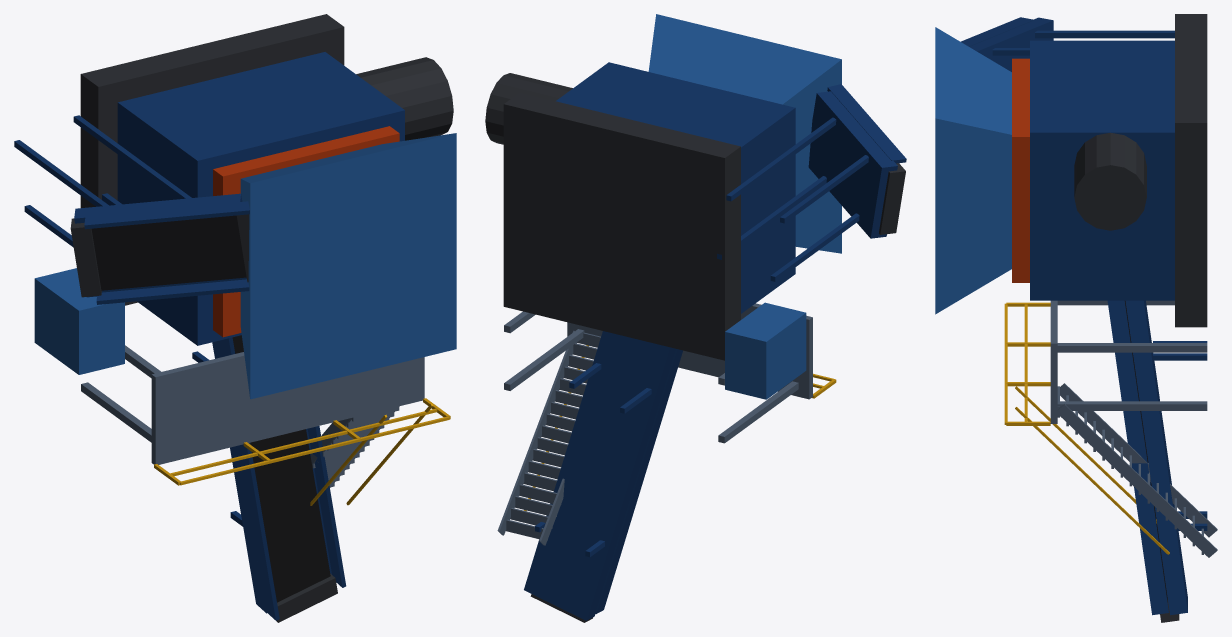
The model's file is secondary_processor.obj.
The picture shows the model from 3 angles, left to right: view 1: azimuth 30°, elevation 25°; view 2: azimuth 150°, elevation 25°; view 3: azimuth 270°, elevation 25°; orthographic projection. The views are drawn at different scales.
Visible parts, largest first — view 1: sec_hopper.006, sec_body.006, sec_platform_deck.006, sec_base.006, sec_infeed_conveyor_belt.006, sec_discharge_belt.006, sec_control_cabinet.006, sec_cover.006, sec_drive.006, sec_discharge_side.013, sec_infeed_conveyor_side.012, sec_infeed_conveyor_frame.006 (+10 smaller); view 2: sec_base.006, sec_discharge_frame.006, sec_body.006, sec_hopper.006, sec_infeed_conveyor_frame.006, sec_control_cabinet.006, sec_drive.006, sec_discharge_side.013, sec_platform_deck.006, sec_stairs_stringer.013, sec_infeed_conveyor_side.012, sec_infeed_conveyor_drum.012 (+6 smaller); view 3: sec_body.006, sec_hopper.006, sec_base.006, sec_drive.006, sec_discharge_frame.006, sec_discharge_side.012, sec_cover.006, sec_stairs_stringer.013, sec_stairs_stringer.012, sec_infeed_conveyor_frame.006, sec_platform_leg.027, sec_platform_leg.026 (+9 smaller).
Boxes of the visible parts, box(x1,y1,x2,y2) form: sec_hopper.006: box(240, 133, 456, 399); sec_body.006: box(117, 52, 404, 345); sec_platform_deck.006: box(151, 352, 424, 464); sec_base.006: box(80, 14, 344, 305); sec_infeed_conveyor_belt.006: box(91, 215, 246, 290); sec_discharge_belt.006: box(232, 335, 330, 602); sec_control_cabinet.006: box(34, 268, 124, 374); sec_cover.006: box(213, 126, 399, 337); sec_drive.006: box(356, 57, 453, 140); sec_discharge_side.013: box(220, 337, 279, 620); sec_infeed_conveyor_side.012: box(84, 201, 249, 229); sec_infeed_conveyor_frame.006: box(74, 193, 246, 297); sec_base.006: box(503, 92, 740, 360); sec_discharge_frame.006: box(524, 331, 676, 620); sec_body.006: box(556, 62, 795, 313); sec_hopper.006: box(648, 14, 841, 253); sec_infeed_conveyor_frame.006: box(808, 91, 897, 238); sec_control_cabinet.006: box(725, 302, 806, 399); sec_drive.006: box(485, 73, 572, 144); sec_discharge_side.013: box(595, 349, 682, 613); sec_platform_deck.006: box(567, 303, 812, 399); sec_stairs_stringer.013: box(497, 330, 576, 535); sec_infeed_conveyor_side.012: box(827, 84, 906, 163); sec_infeed_conveyor_drum.012: box(879, 163, 905, 234); sec_body.006: box(1030, 40, 1174, 300); sec_hopper.006: box(935, 27, 1011, 314); sec_base.006: box(1175, 14, 1207, 327); sec_drive.006: box(1074, 132, 1146, 230); sec_discharge_frame.006: box(1125, 300, 1187, 615); sec_discharge_side.012: box(1107, 300, 1168, 615); sec_cover.006: box(1012, 58, 1029, 282); sec_stairs_stringer.013: box(1057, 403, 1217, 557); sec_stairs_stringer.012: box(1060, 383, 1217, 537); sec_infeed_conveyor_frame.006: box(969, 17, 1053, 71); sec_platform_leg.027: box(1057, 343, 1207, 352); sec_platform_leg.026: box(1057, 401, 1207, 410).
Bounding box in the file's own units: 10.55 × 14.23 × 7.01.
